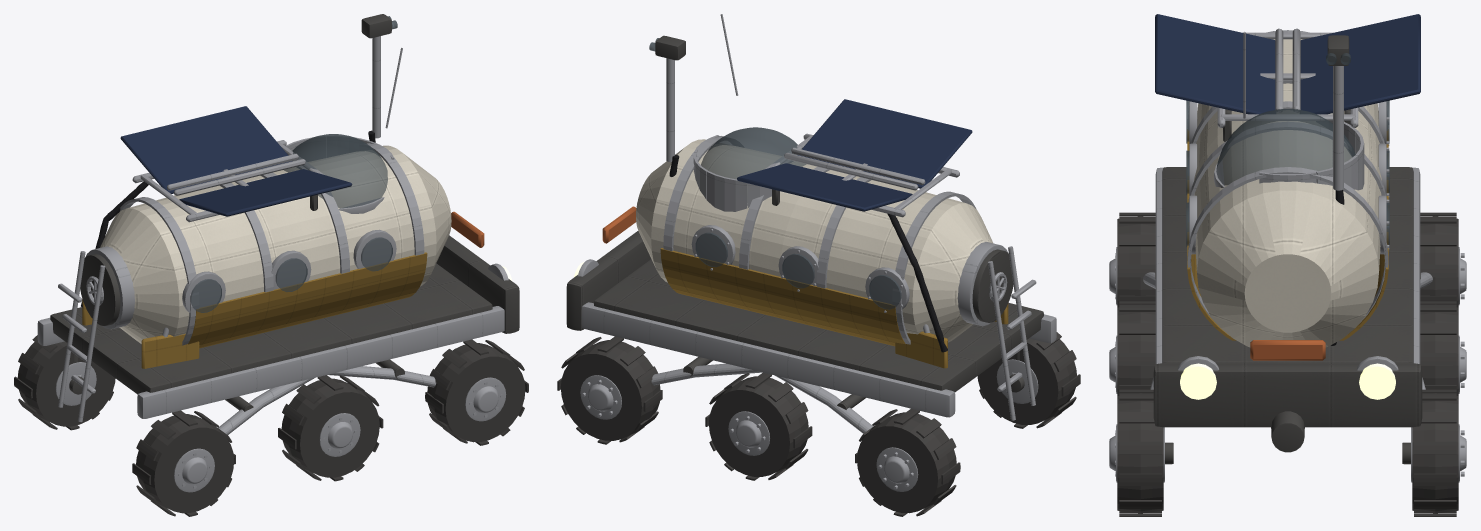
Rendered from crew_rover.glb.
3 views of the same model, side by side, from view 1: azimuth 30°, elevation 25°; view 2: azimuth 150°, elevation 25°; view 3: azimuth 270°, elevation 25° (orthographic). The views are drawn at different scales.
Parts seen in each view (by area): view 1: hull, deck, skirt_z-1, rail_z-1, wing_s1, wh0_n_drum, wh-1.45_n_drum, wh1.45_n_drum, cupola_glass, wh-1.45_p_drum, wing_s-1, bumper (+26 smaller); view 2: hull, deck, skirt_z1, rail_z1, wing_s-1, wh-1.45_p_drum, wh0_p_drum, wh1.45_p_drum, wh-1.45_n_drum, wing_s1, cupola_glass, bumper (+28 smaller); view 3: hull, deck, bumper, wing_s-1, wing_s1, cupola_glass, wh1.45_n_drum, wh1.45_p_drum, rib_x1.08, wh0_n_drum, wh0_p_drum, wh-1.45_n_drum (+33 smaller).
Part boxes in pixels (x1,y1,x2,y2): hull: (100, 145, 451, 343); deck: (50, 263, 492, 394); skirt_z-1: (188, 252, 427, 348); rail_z-1: (137, 306, 504, 418); wing_s1: (120, 106, 291, 193); wh0_n_drum: (281, 378, 379, 477); wh-1.45_n_drum: (136, 414, 234, 513); wh1.45_n_drum: (427, 343, 525, 442); cupola_glass: (284, 134, 387, 208); wh-1.45_p_drum: (17, 341, 115, 426); wing_s-1: (179, 169, 352, 216); bumper: (436, 235, 519, 333); hull: (636, 139, 992, 342); deck: (594, 259, 1043, 392); skirt_z1: (660, 248, 905, 346); rail_z1: (581, 302, 955, 417); wing_s-1: (798, 99, 972, 188); wh-1.45_p_drum: (857, 412, 956, 513); wh0_p_drum: (708, 376, 808, 476); wh1.45_p_drum: (560, 340, 660, 440); wh-1.45_n_drum: (977, 338, 1076, 424); wing_s1: (737, 163, 912, 211); cupola_glass: (701, 127, 806, 202); bumper: (566, 231, 651, 330); hull: (1194, 39, 1381, 347); deck: (1162, 167, 1413, 363); bumper: (1153, 363, 1422, 427); wing_s-1: (1155, 14, 1275, 114); wing_s1: (1300, 14, 1420, 114); cupola_glass: (1216, 109, 1355, 185); wh1.45_n_drum: (1117, 393, 1163, 513); wh1.45_p_drum: (1412, 393, 1458, 513); rib_x1.08: (1187, 167, 1388, 324); wh0_n_drum: (1117, 304, 1155, 395); wh0_p_drum: (1420, 304, 1458, 395); wh-1.45_n_drum: (1117, 215, 1155, 307).
Size of the model in its own units: 4.17 by 3.5 by 2.47.
10 materials, 5 textured.
